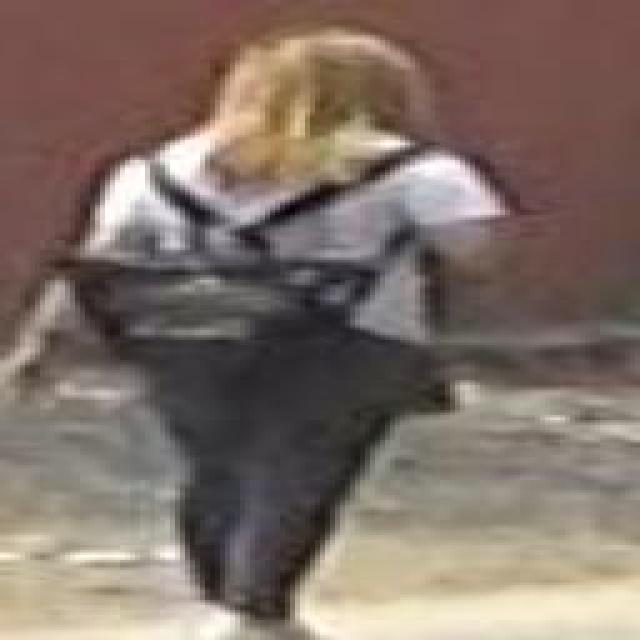adult: (2, 28, 516, 632)
